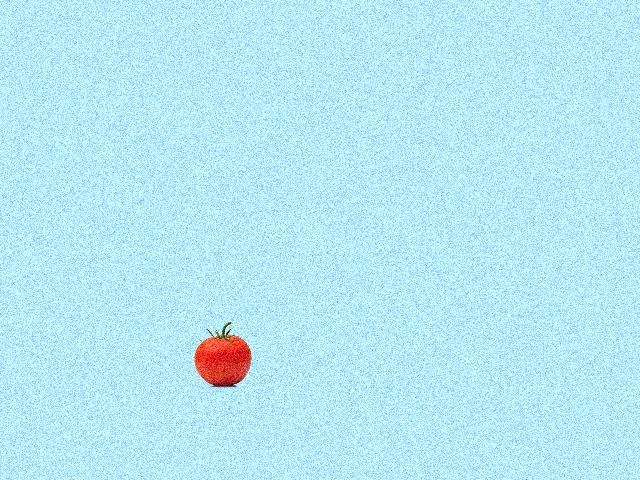tomato: (193, 335, 250, 385)
